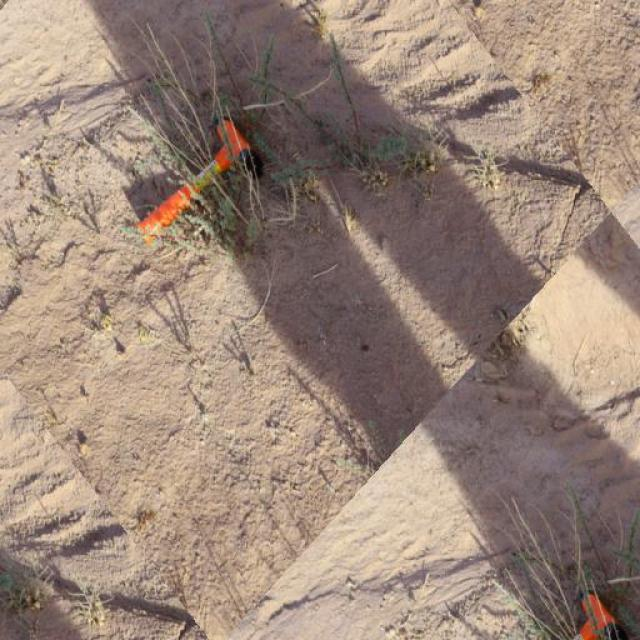mallet: (126, 116, 265, 246)
